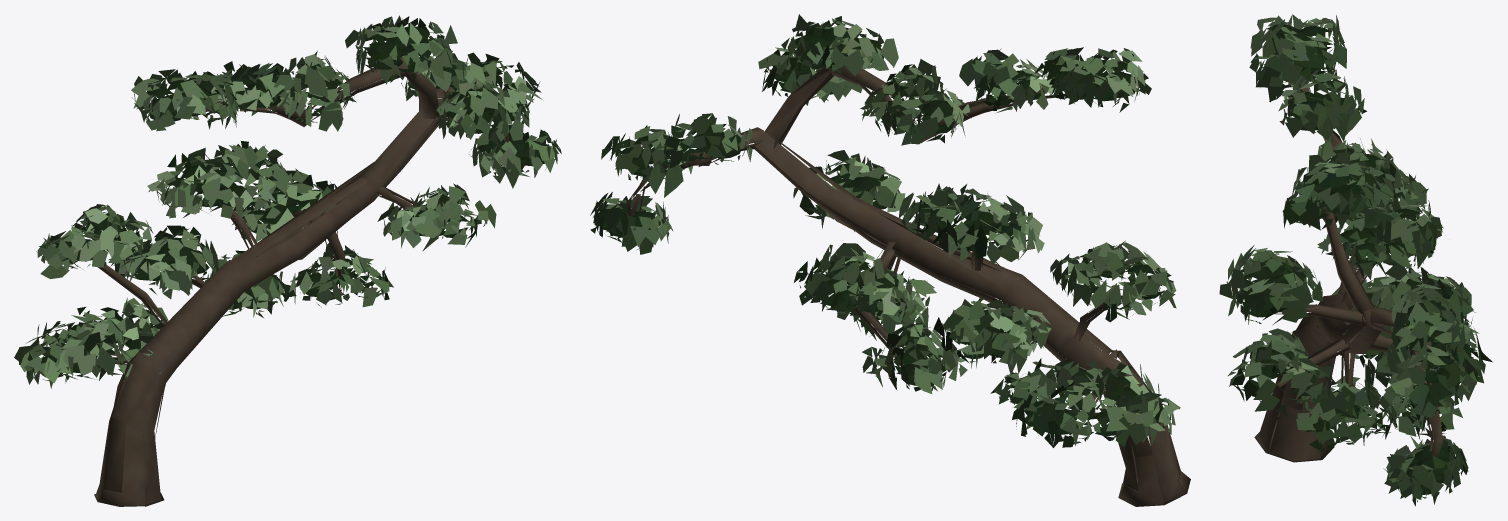
File: pine_b_hd.glb
3 views of the same model, side by side, from view 1: azimuth 30°, elevation 25°; view 2: azimuth 150°, elevation 25°; view 3: azimuth 270°, elevation 25° (orthographic). The views are drawn at different scales.
Parts seen in each view (by area): view 1: pine_b; view 2: pine_b; view 3: pine_b.
Part boxes in pixels (box(x1,y1,x2,y2)): pine_b: box(14, 15, 561, 506); pine_b: box(590, 14, 1190, 506); pine_b: box(1219, 14, 1492, 506).
Bounding box in the file's own units: 4.23 × 3.06 × 1.67.
Materials: 1 (1 with a texture image).
